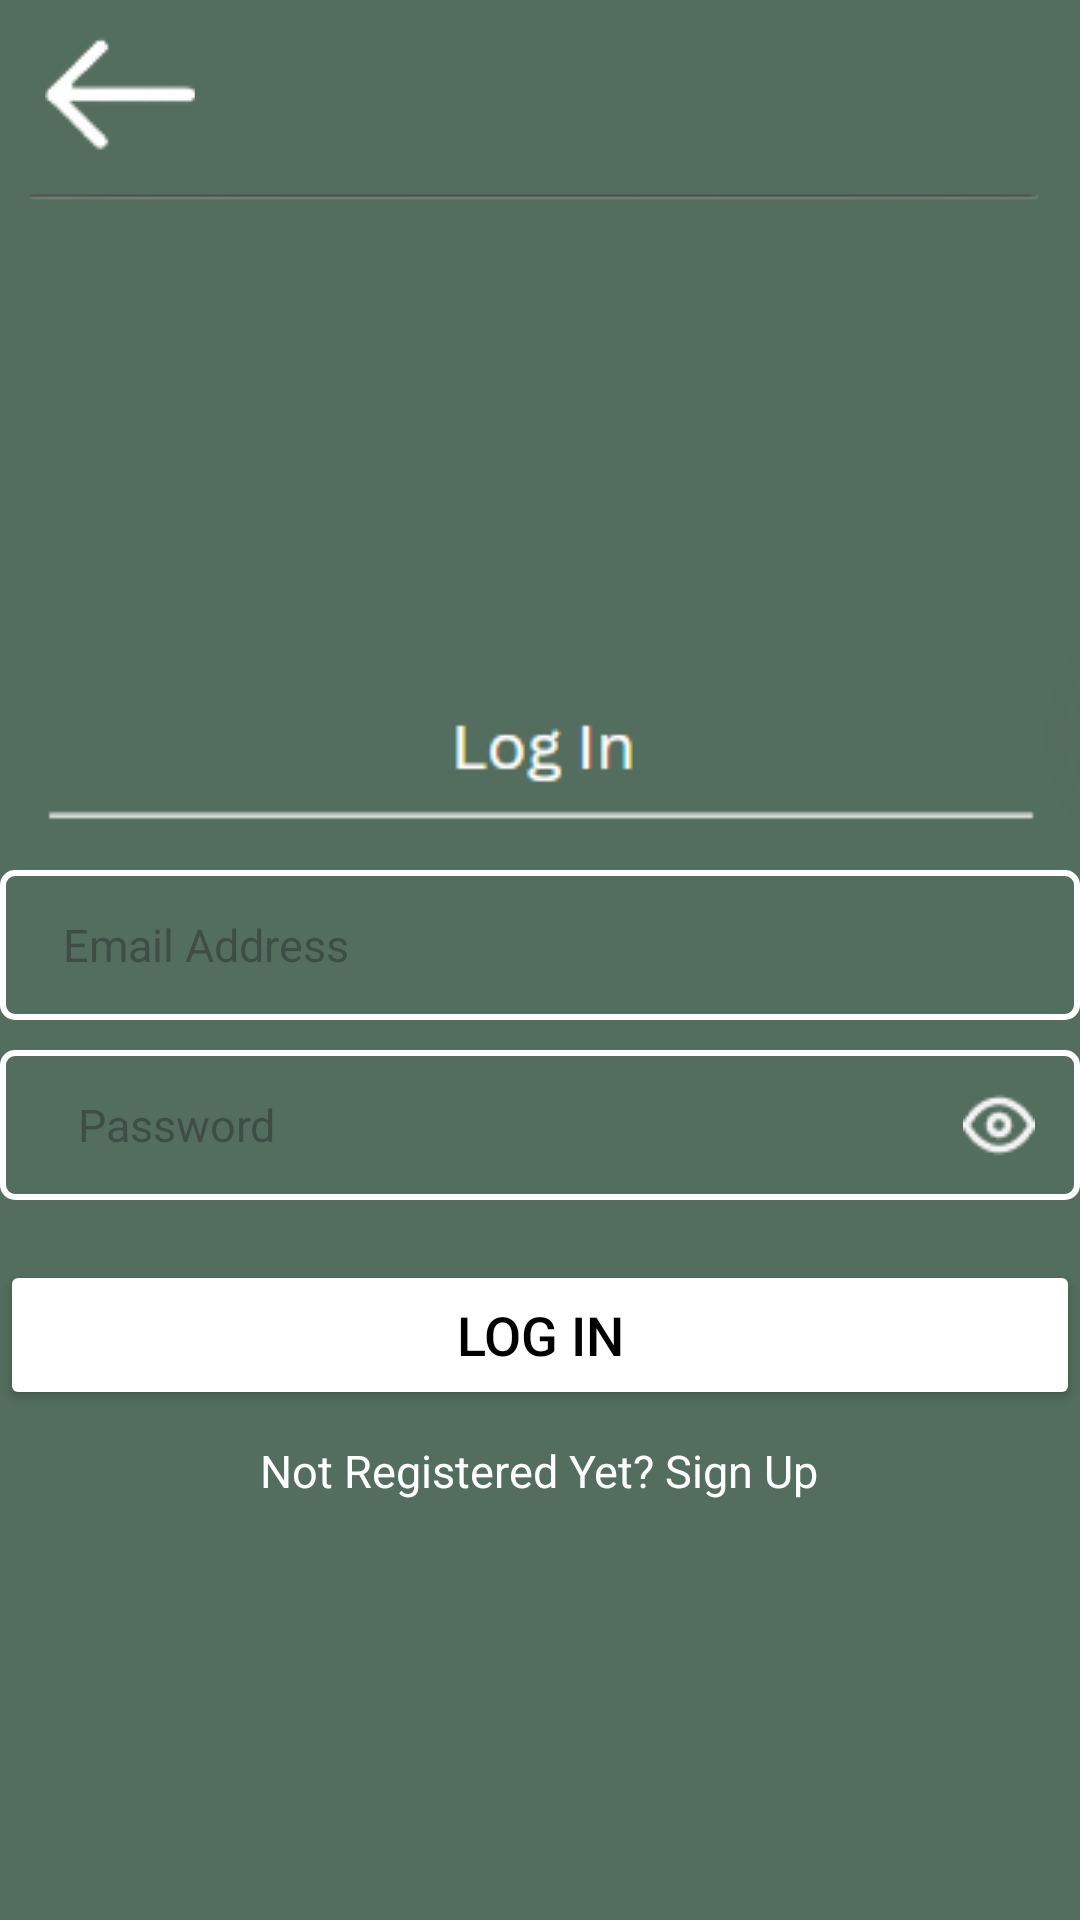

Screen size 1080x1920. Icon name, then its center in pixels as (x,y):
backbutlog: (120,94)
